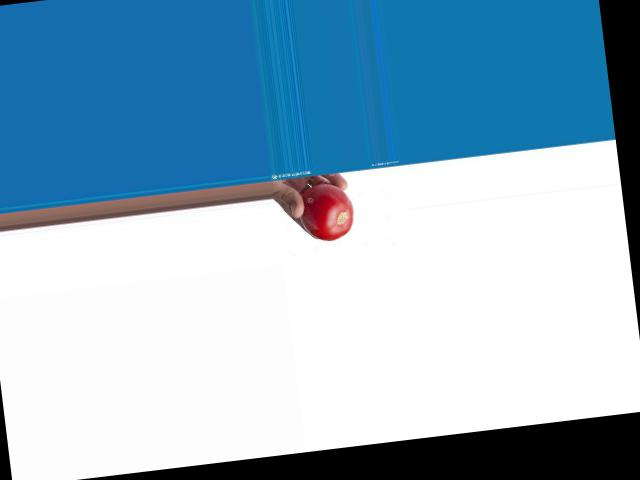tomato: (296, 180, 356, 243)
